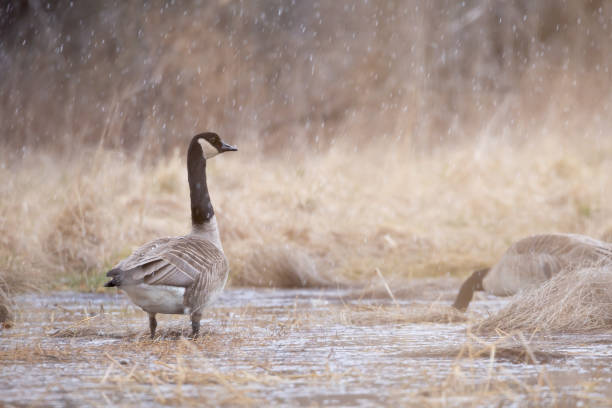goose: (97, 130, 240, 345), (452, 231, 612, 331)
